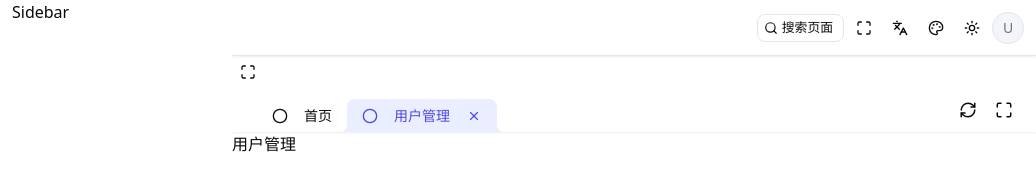
Test: content fullscreen remains independently reversible after a browser fullscreen change
Click the button named "全屏显示内容" at [1004, 110], box [988,94,1020,126]
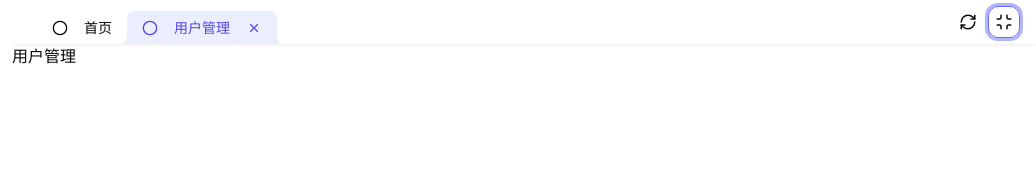
expect the button named "退出内容全屏" is shown: met
Click the button named "退出内容全屏" at [1004, 22], box [988,6,1020,38]
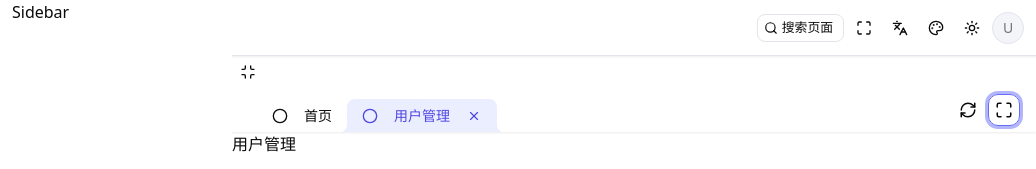
expect the button named "Exit browser fullscreen test" is shown: met, box [232,56,264,88]
